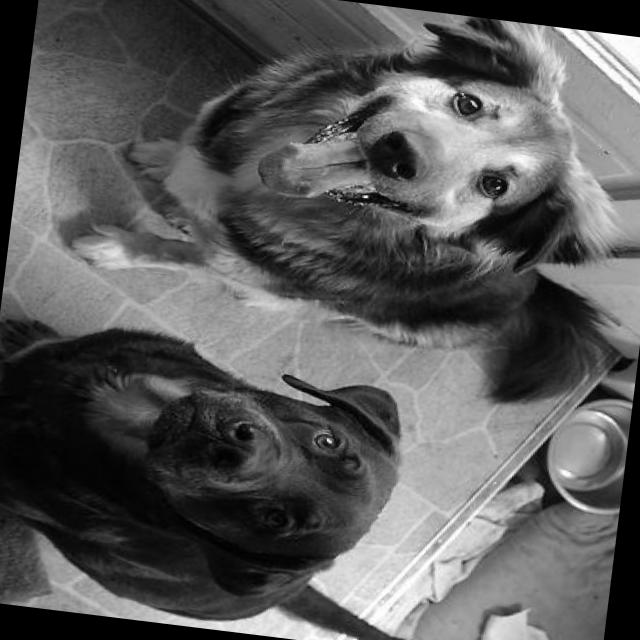sitting: (59, 0, 640, 417), (0, 309, 449, 640)
